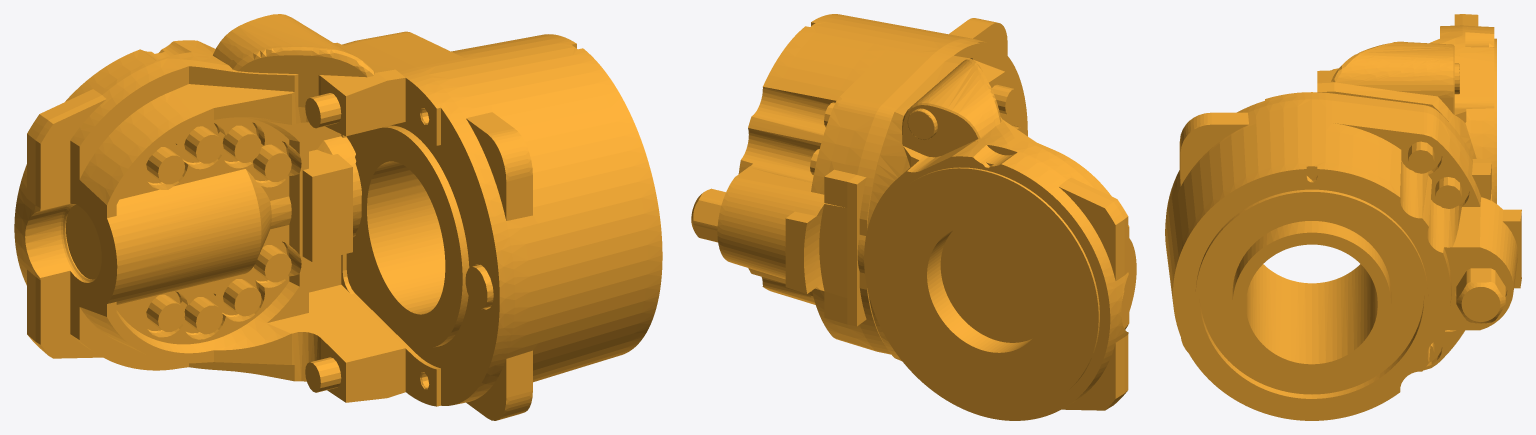
Rendered from ABBIRB1660IDLink5.dae.
3 renders of one model, left to right at view 1: azimuth 30°, elevation 25°; view 2: azimuth 150°, elevation 25°; view 3: azimuth 270°, elevation 25°, orthographic. The views are drawn at different scales.
Visible parts, largest first — view 1: IRB1660IDLink6; view 2: IRB1660IDLink6; view 3: IRB1660IDLink6.
Part boxes in pixels (x1,y1,x2,y2): IRB1660IDLink6: (14, 14, 662, 420); IRB1660IDLink6: (691, 14, 1136, 420); IRB1660IDLink6: (1165, 14, 1521, 420).
Bounding box in the file's own units: 0.1773 × 0.135 × 0.1191.
